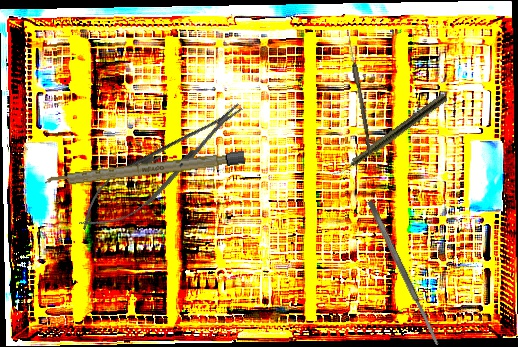Handpiece: (330, 91, 449, 182)
Needle Holder: (67, 87, 256, 247)
Scalpel Handle: (43, 150, 246, 189)
Spatula Surgical: (366, 199, 441, 347)
Surgical Spoon: (344, 32, 375, 154)
